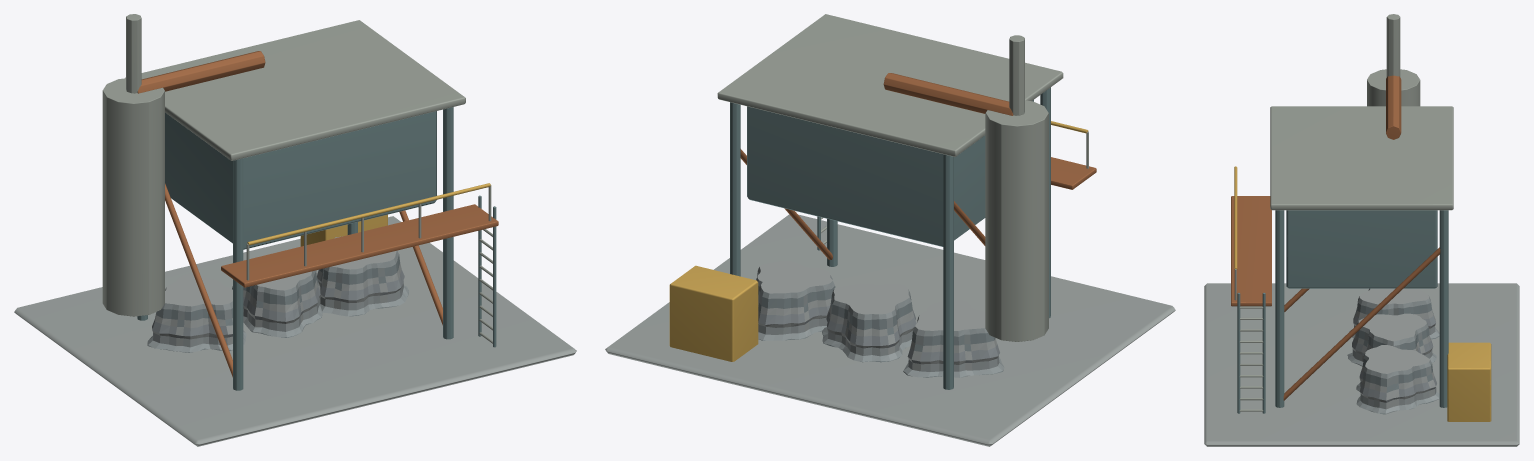
Rendered from QuarryCrusher.glb.
3 views of the same model, side by side, from view 1: azimuth 30°, elevation 25°; view 2: azimuth 150°, elevation 25°; view 3: azimuth 270°, elevation 25° (orthographic). The views are drawn at different scales.
Parts seen in each view (by area): view 1: Processing pad, Dust hood, Crusher housing, Cyclone separator, Access deck, Aggregate discharge pile, Aggregate discharge pile.002, Aggregate discharge pile.001, Crusher steel column, Dust extraction duct, Crusher steel column.002, Frame diagonal (+4 smaller); view 2: Processing pad, Dust hood, Crusher housing, Cyclone separator, Control cabinet, Aggregate discharge pile.001, Aggregate discharge pile.002, Aggregate discharge pile, Crusher steel column.001, Dust extraction duct, Crusher steel column.003, Exhaust stack (+2 smaller); view 3: Processing pad, Dust hood, Crusher housing, Aggregate discharge pile.002, Access deck, Control cabinet, Aggregate discharge pile.001, Aggregate discharge pile, Crusher steel column.002, Crusher steel column.003, Cyclone separator, Frame diagonal.001 (+5 smaller).
Boxes of the visible parts, x1,y1,x2,y2 form: Processing pad: (14, 216, 576, 446); Dust hood: (125, 20, 465, 160); Crusher housing: (165, 111, 436, 249); Cyclone separator: (102, 78, 164, 316); Access deck: (221, 204, 498, 287); Aggregate discharge pile: (147, 273, 246, 352); Aggregate discharge pile.002: (317, 236, 408, 316); Aggregate discharge pile.001: (232, 270, 322, 337); Crusher steel column: (233, 158, 243, 390); Dust extraction duct: (137, 51, 265, 93); Crusher steel column.002: (443, 107, 453, 339); Frame diagonal: (165, 183, 232, 377); Processing pad: (605, 214, 1175, 446); Dust hood: (717, 14, 1063, 156); Crusher housing: (747, 100, 1033, 246); Cyclone separator: (985, 100, 1048, 341); Control cabinet: (669, 265, 758, 361); Aggregate discharge pile.001: (822, 283, 916, 362); Aggregate discharge pile.002: (756, 261, 835, 340); Aggregate discharge pile: (903, 299, 1004, 377); Crusher steel column.001: (943, 154, 953, 389); Dust extraction duct: (883, 73, 1013, 115); Crusher steel column.003: (730, 102, 740, 276); Exhaust stack: (1009, 35, 1024, 115); Processing pad: (1204, 283, 1519, 446); Dust hood: (1270, 106, 1453, 210); Crusher housing: (1286, 210, 1437, 288); Aggregate discharge pile.002: (1356, 345, 1439, 414); Access deck: (1231, 196, 1271, 306); Control cabinet: (1447, 342, 1491, 421); Aggregate discharge pile.001: (1347, 313, 1436, 366); Aggregate discharge pile: (1349, 288, 1439, 339); Crusher steel column.002: (1275, 210, 1284, 407); Crusher steel column.003: (1439, 210, 1448, 407); Cyclone separator: (1367, 69, 1420, 106); Frame diagonal.001: (1283, 247, 1440, 400).
Size of the model in its own units: 12 by 10.19 by 10.
